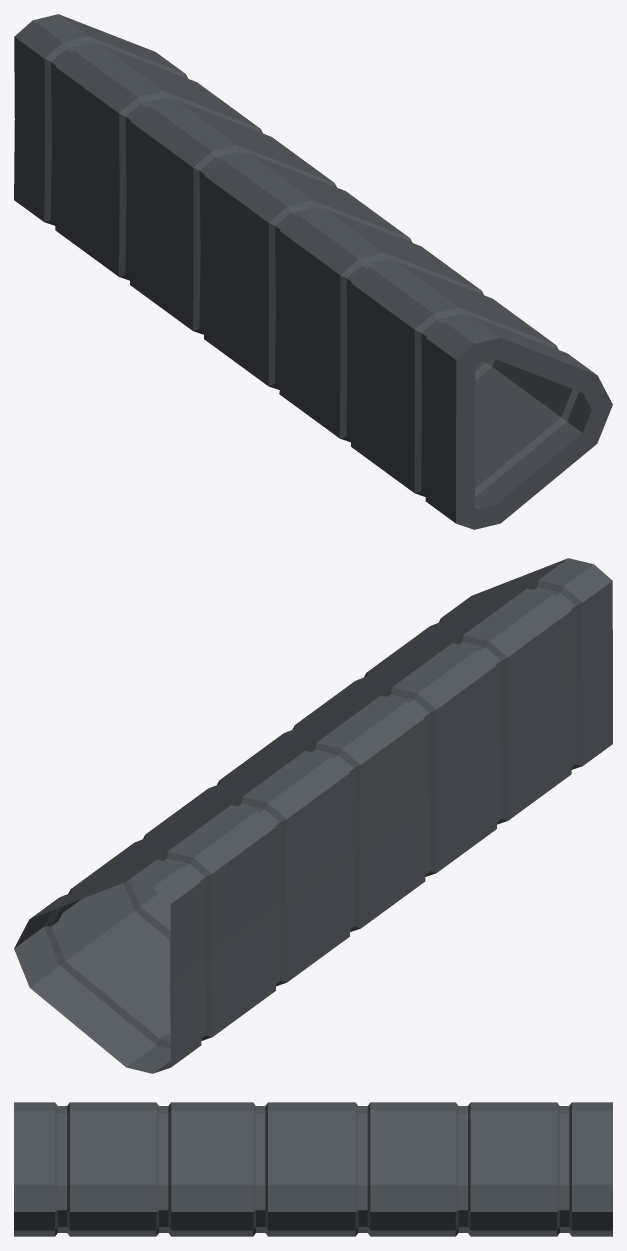
Rendered from Mothership_02_Thrust_Linkage_Blue.fbx.
3 renders of one model, top to bottom at view 1: azimuth 30°, elevation 25°; view 2: azimuth 150°, elevation 25°; view 3: azimuth 270°, elevation 25°, orthographic. The views are drawn at different scales.
Parts seen in each view (by area): view 1: Mothership_02_Thrust_Linkage_Blue; view 2: Mothership_02_Thrust_Linkage_Blue; view 3: Mothership_02_Thrust_Linkage_Blue.
Part boxes in pixels (x1,y1,x2,y2): Mothership_02_Thrust_Linkage_Blue: (14,14,612,529); Mothership_02_Thrust_Linkage_Blue: (14,558,612,1073); Mothership_02_Thrust_Linkage_Blue: (14,1102,612,1236).
Size of the model in its own units: 279 by 316 by 1361.
Materials: 1 (1 with a texture image).
